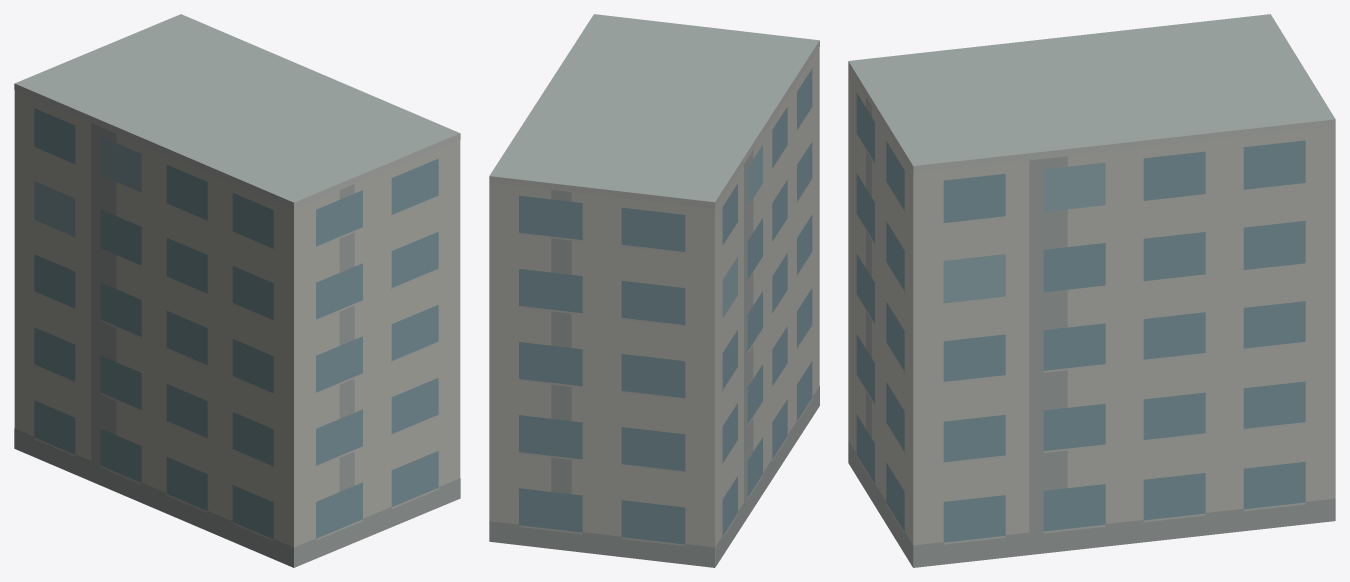
Rendered from survey-upis-32651469.glb.
3 views of the same model, side by side, from view 1: azimuth 30°, elevation 25°; view 2: azimuth 150°, elevation 25°; view 3: azimuth 270°, elevation 25° (orthographic). The views are drawn at different scales.
Visible parts, largest first — view 1: survey-upis-32651469.tmp; view 2: survey-upis-32651469.tmp; view 3: survey-upis-32651469.tmp.
Boxes of the visible parts, x1,y1,x2,y2 form: survey-upis-32651469.tmp: [14, 14, 460, 567]; survey-upis-32651469.tmp: [489, 14, 819, 567]; survey-upis-32651469.tmp: [848, 14, 1335, 567].
Bounding box in the file's own units: 10.89 × 13.4 × 14.74.
